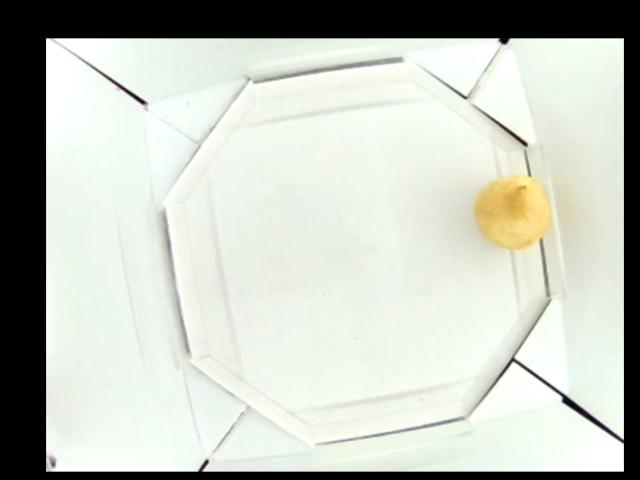Potato: (474, 171, 552, 245)
